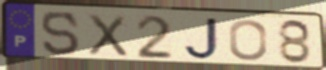2: (135, 14, 175, 60)
8: (277, 18, 314, 65)
J: (182, 16, 221, 61)
O: (227, 19, 269, 62)
S: (39, 10, 82, 57)
X: (86, 12, 130, 59)
